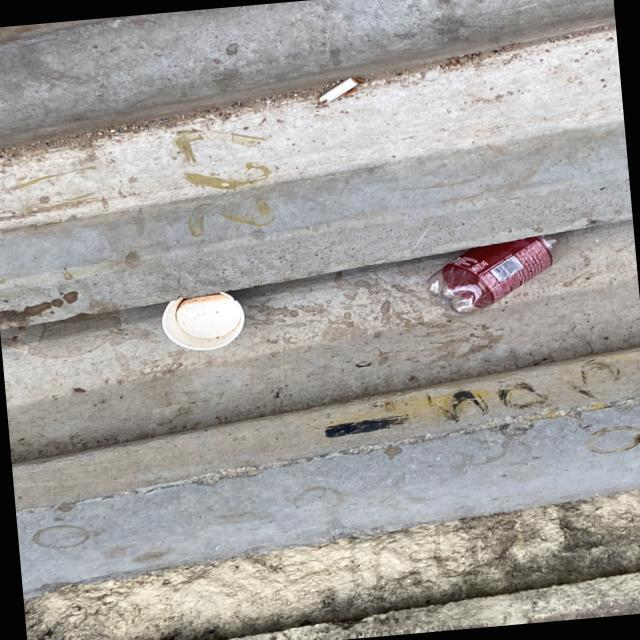chai_nhua: (427, 232, 568, 317)
ly_hop_giay: (161, 291, 244, 350)
